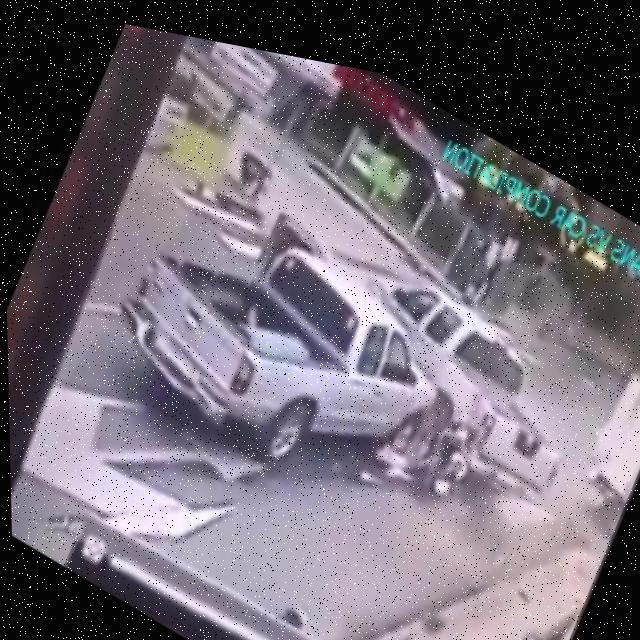Car Accident Detector - v4 Generation1 Exported: (86, 114, 600, 602)
